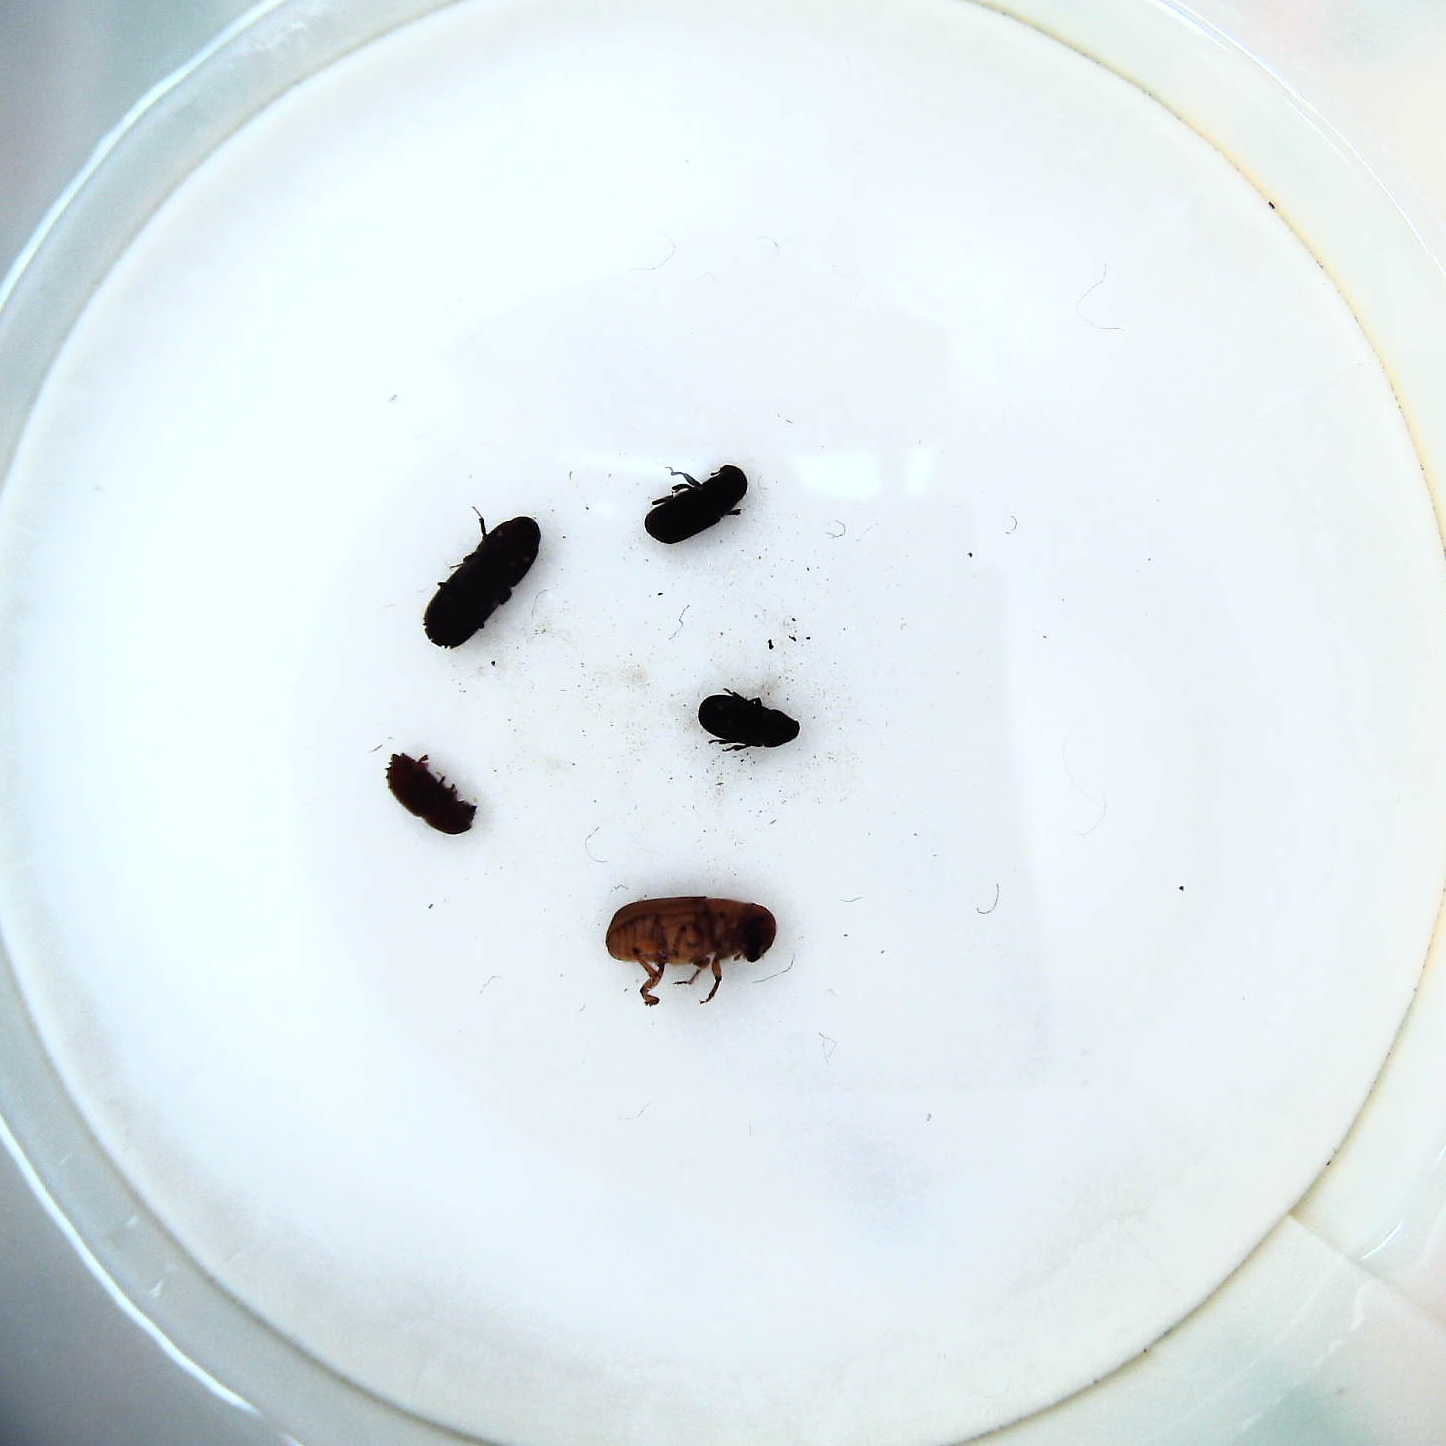Boerner: (422, 512, 547, 651)
Leconte: (601, 895, 781, 1014)
armandi: (640, 461, 757, 550)
coleoptera: (693, 689, 806, 757)
linnaeus: (381, 744, 481, 841)
